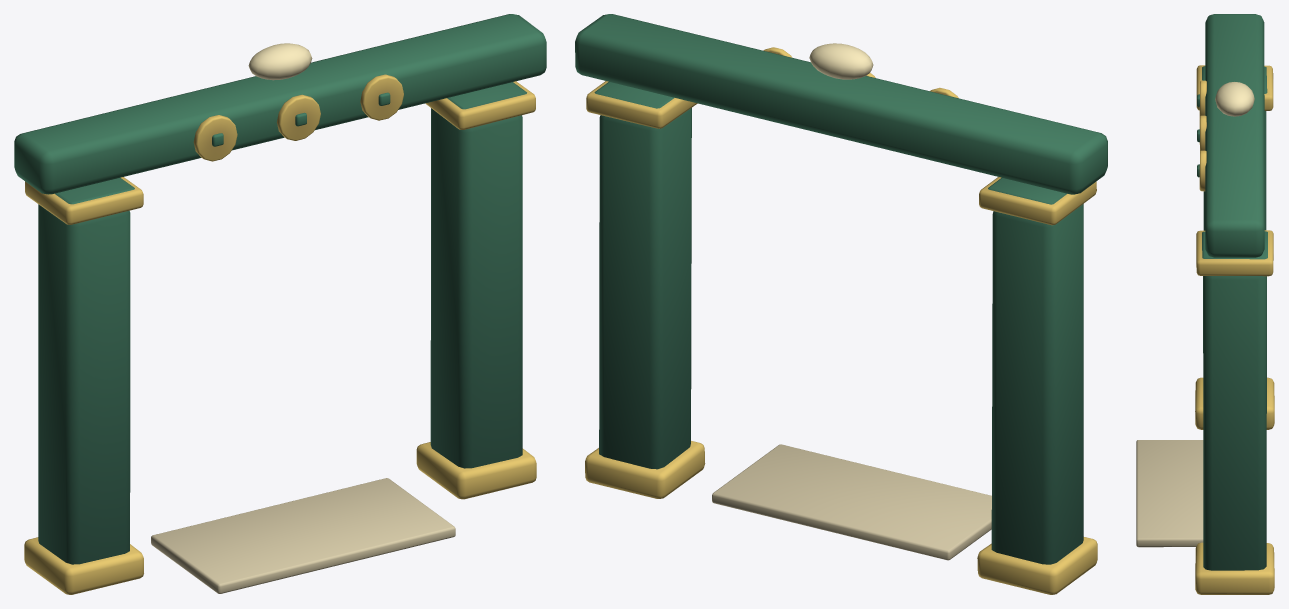
3 views of the same model, side by side, from view 1: azimuth 30°, elevation 25°; view 2: azimuth 150°, elevation 25°; view 3: azimuth 270°, elevation 25° (orthographic). The views are drawn at different scales.
Visible parts, largest first — view 1: gate_6100d73e; view 2: gate_6100d73e; view 3: gate_6100d73e.
Boxes of the visible parts, box(x1,y1,x2,y2) form: gate_6100d73e: box(14, 14, 546, 594); gate_6100d73e: box(575, 14, 1107, 594); gate_6100d73e: box(1136, 14, 1274, 594).
Bounding box in the file's own units: 5.11 × 4.6 × 1.4.
